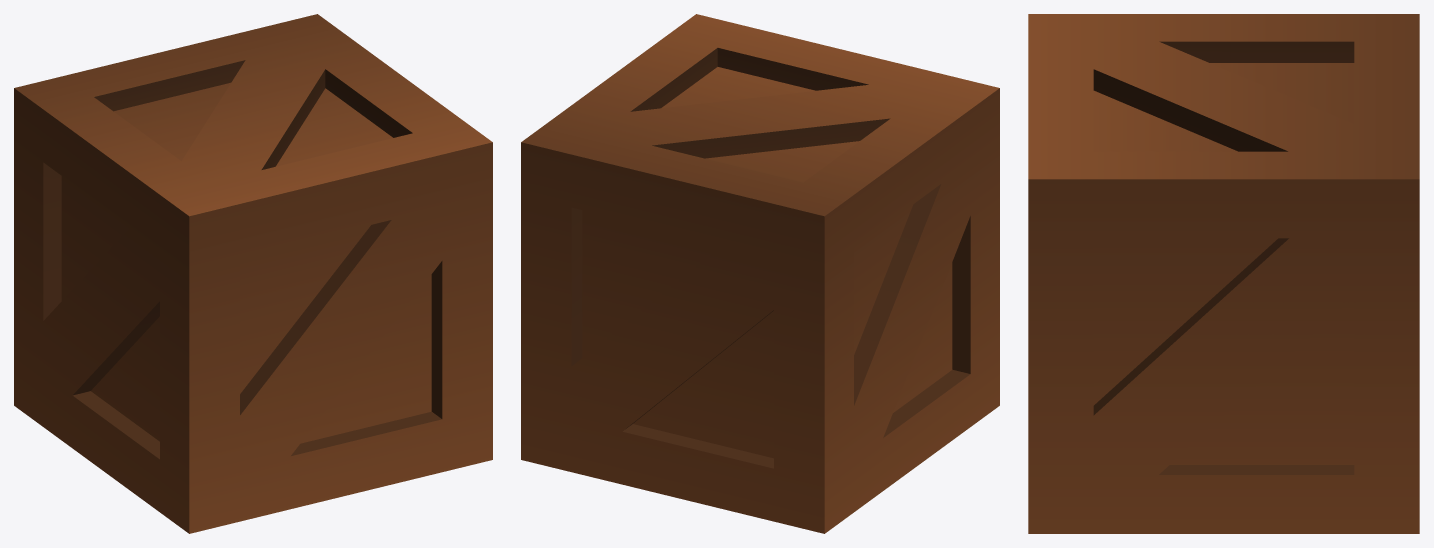
The model's file is PROP_023_Box.fbx.
The picture shows the model from 3 angles, left to right: view 1: azimuth 30°, elevation 25°; view 2: azimuth 150°, elevation 25°; view 3: azimuth 270°, elevation 25°; orthographic projection. The views are drawn at different scales.
Visible parts, largest first — view 1: PROP_023_Box; view 2: PROP_023_Box; view 3: PROP_023_Box.
Part boxes in pixels (x1,y1,x2,y2): PROP_023_Box: (14, 14, 492, 533); PROP_023_Box: (521, 14, 999, 533); PROP_023_Box: (1028, 14, 1419, 533).
Size of the model in its own units: 9.84 by 9.84 by 9.84.
